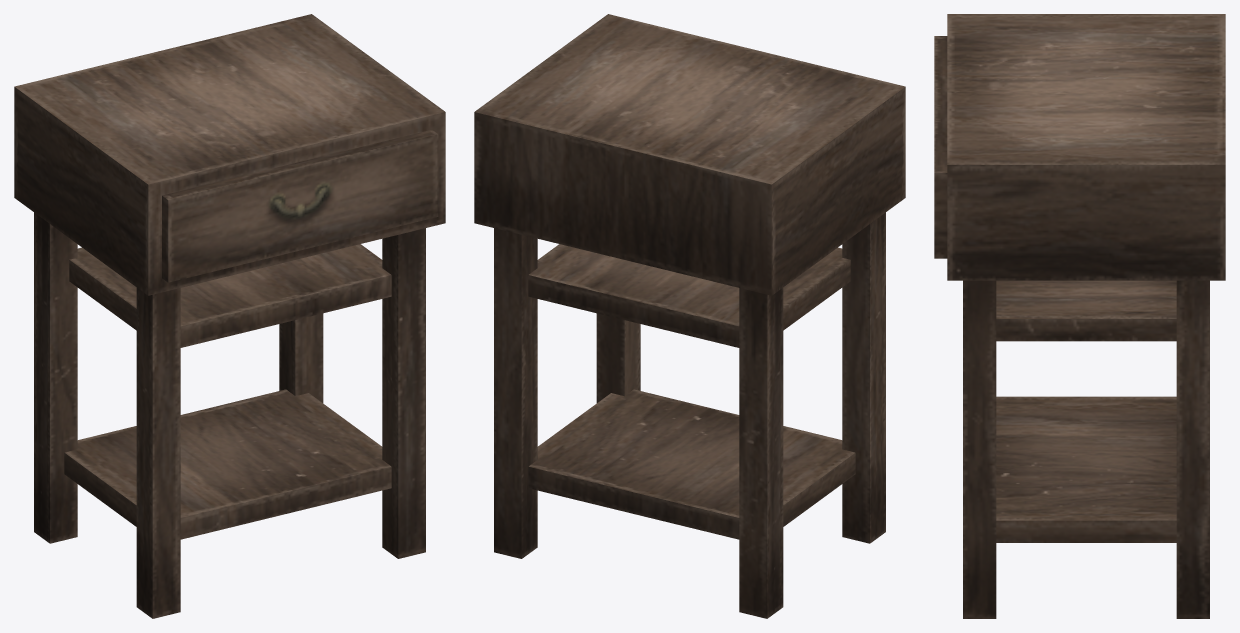
File: Bedside.Table.fbx
The picture shows the model from 3 angles, left to right: view 1: azimuth 30°, elevation 25°; view 2: azimuth 150°, elevation 25°; view 3: azimuth 270°, elevation 25°; orthographic projection. The views are drawn at different scales.
Parts seen in each view (by area): view 1: Bedside.Table; view 2: Bedside.Table; view 3: Bedside.Table.
Part boxes in pixels (x1,y1,x2,y2): Bedside.Table: (14,14,445,618); Bedside.Table: (474,14,905,618); Bedside.Table: (934,14,1225,618).
Bounding box in the file's own units: 48.48 × 68.97 × 39.56.
